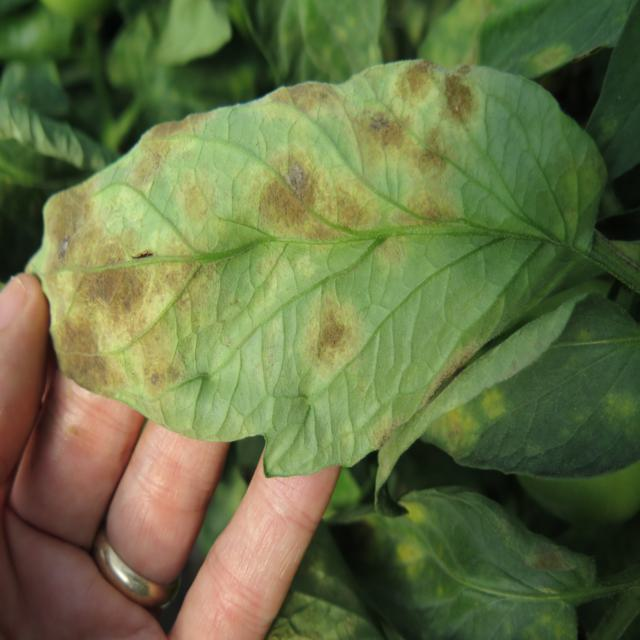Leaf_Mold: (37, 180, 211, 400), (258, 58, 477, 176), (243, 154, 374, 246), (117, 107, 215, 184), (433, 383, 507, 463), (294, 290, 360, 372), (383, 186, 453, 238), (394, 534, 429, 581)
